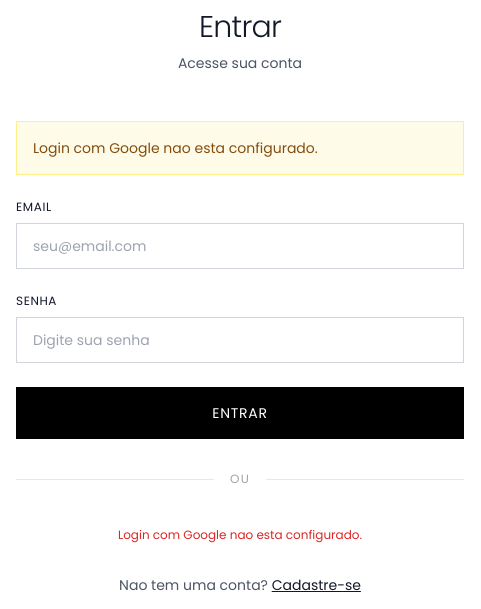
Login Component › Segurança › deve implementar rate limiting para tentativas de login
Type "teste@email.com" into the field labelled "Email" at (240, 246), box [16,223,464,269]
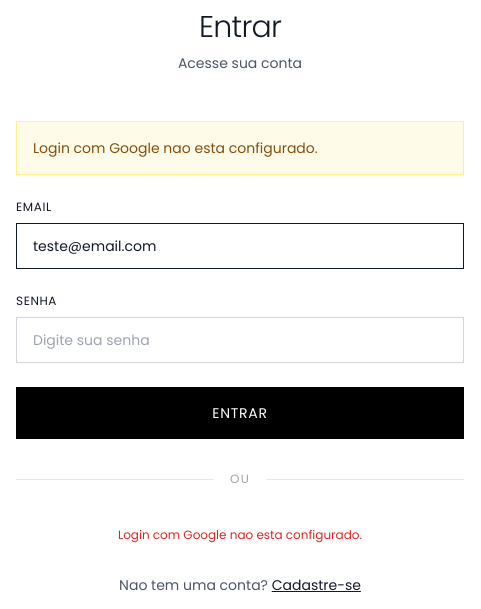
Type "senha123" into the password field labelled "Senha" at (240, 340), box [16,317,464,363]
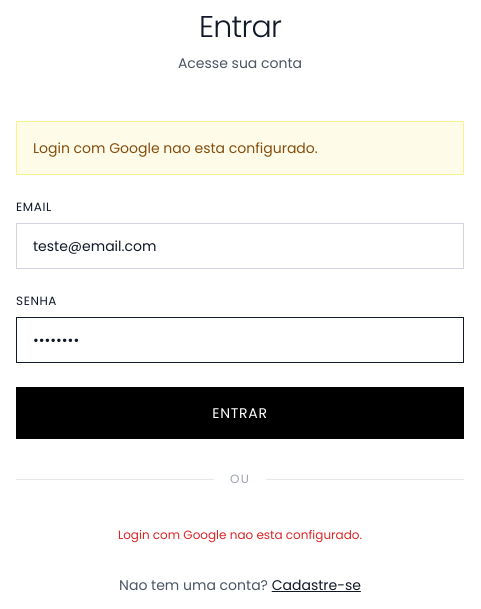
Click the button "Entrar" at (240, 413), box [16,387,464,439]
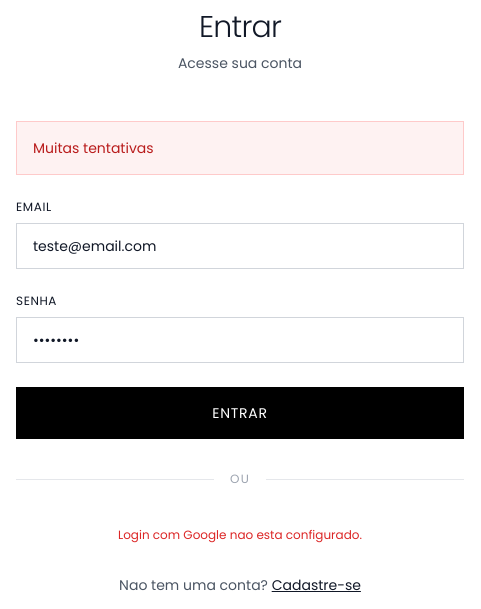
Check: the text "Muitas tentativas" is shown, box [16,121,464,175]
